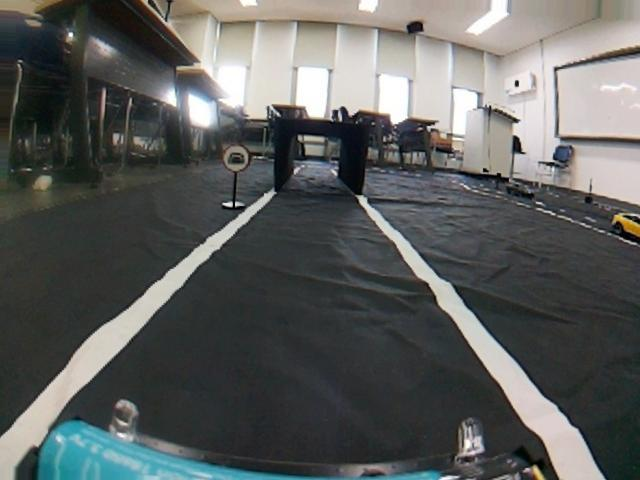sign_tunnel: (219, 141, 254, 175)
straight: (3, 214, 628, 480)
